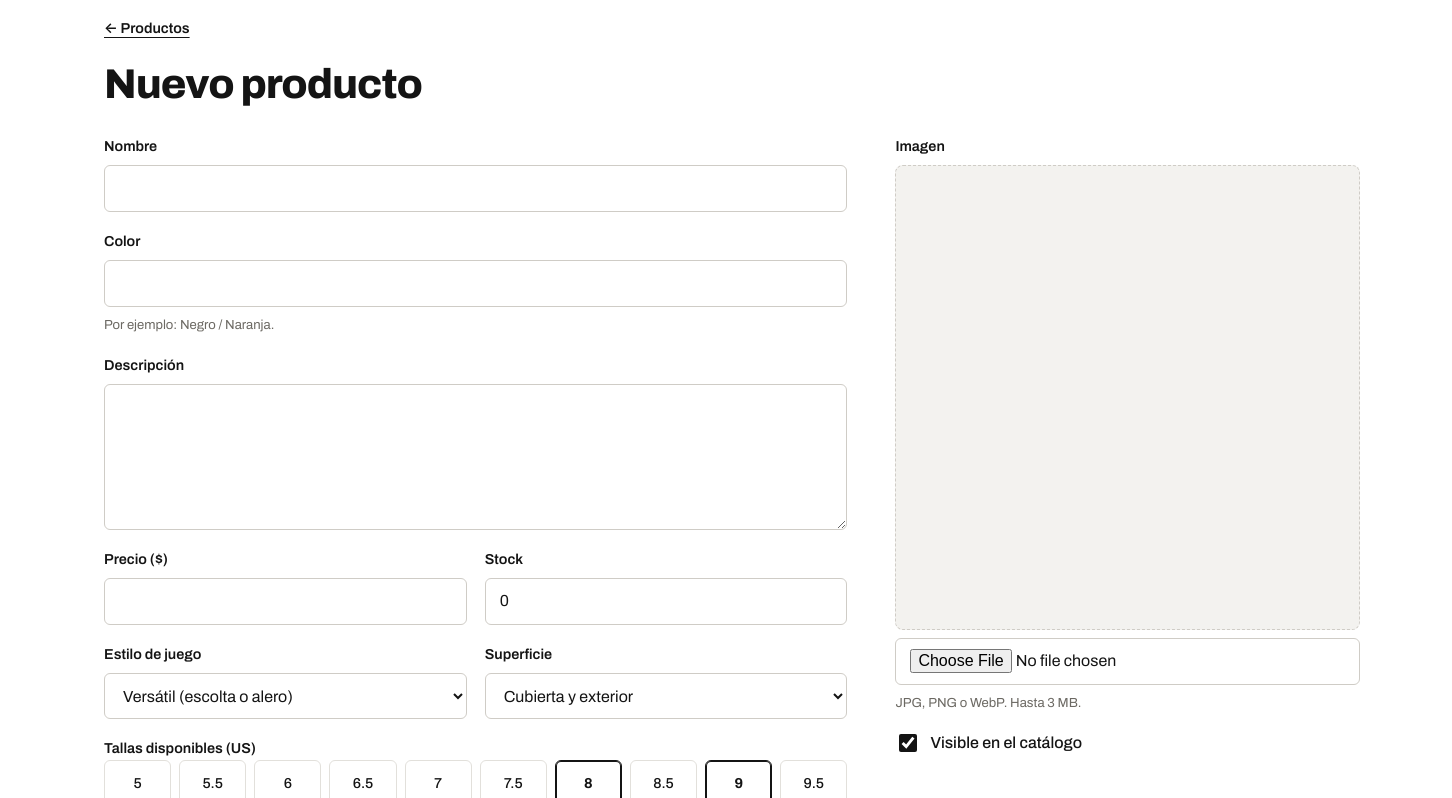
Scenario: formulario de producto del admin › no manda nada si el precio es inválido
Step 1. Type "Zapatilla nueva" into the field labelled "Nombre" → [476, 189], box [104,165,847,212]
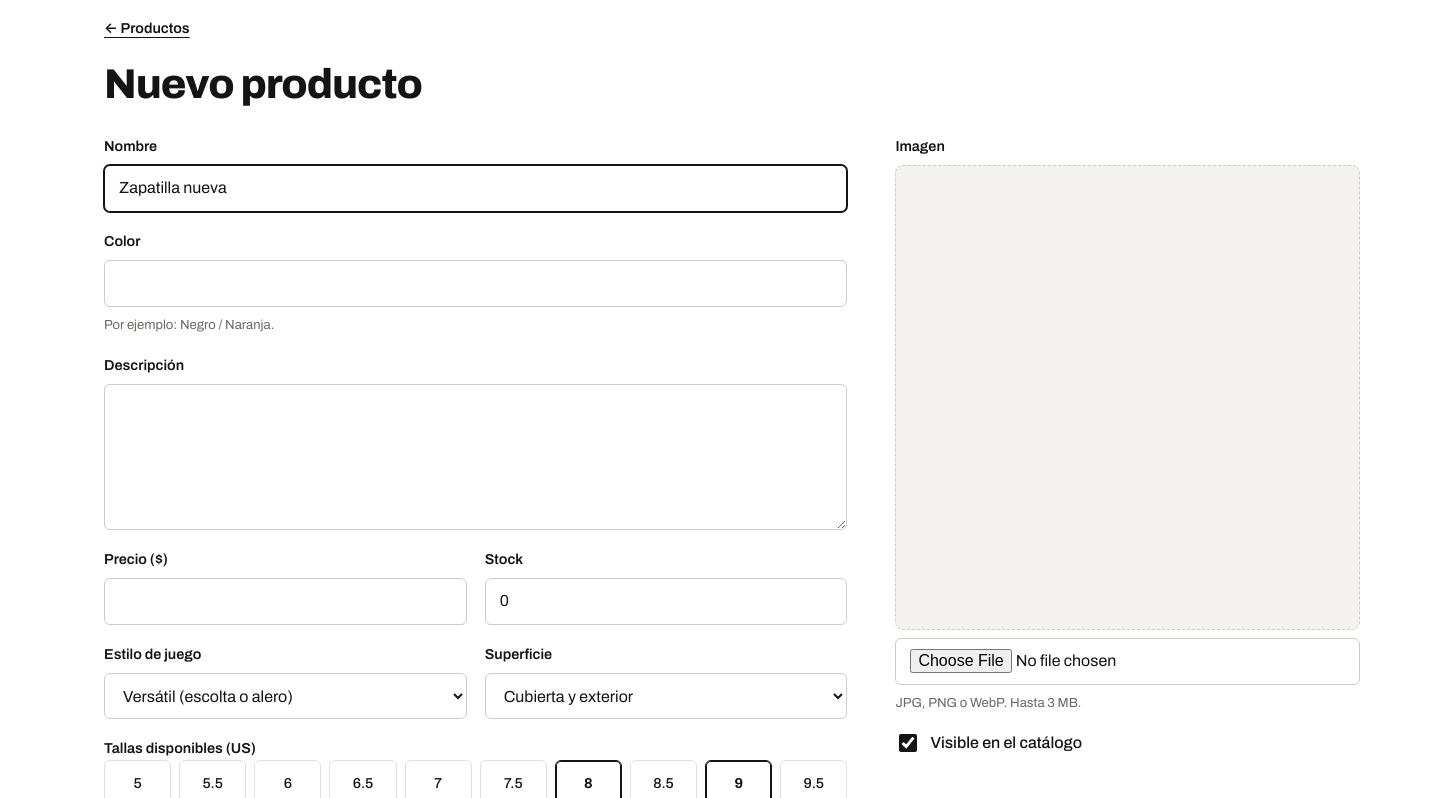
Step 2. Type "diez" into the field labelled "Precio ($)" → [285, 602], box [104,578,467,625]
(page scrolled)
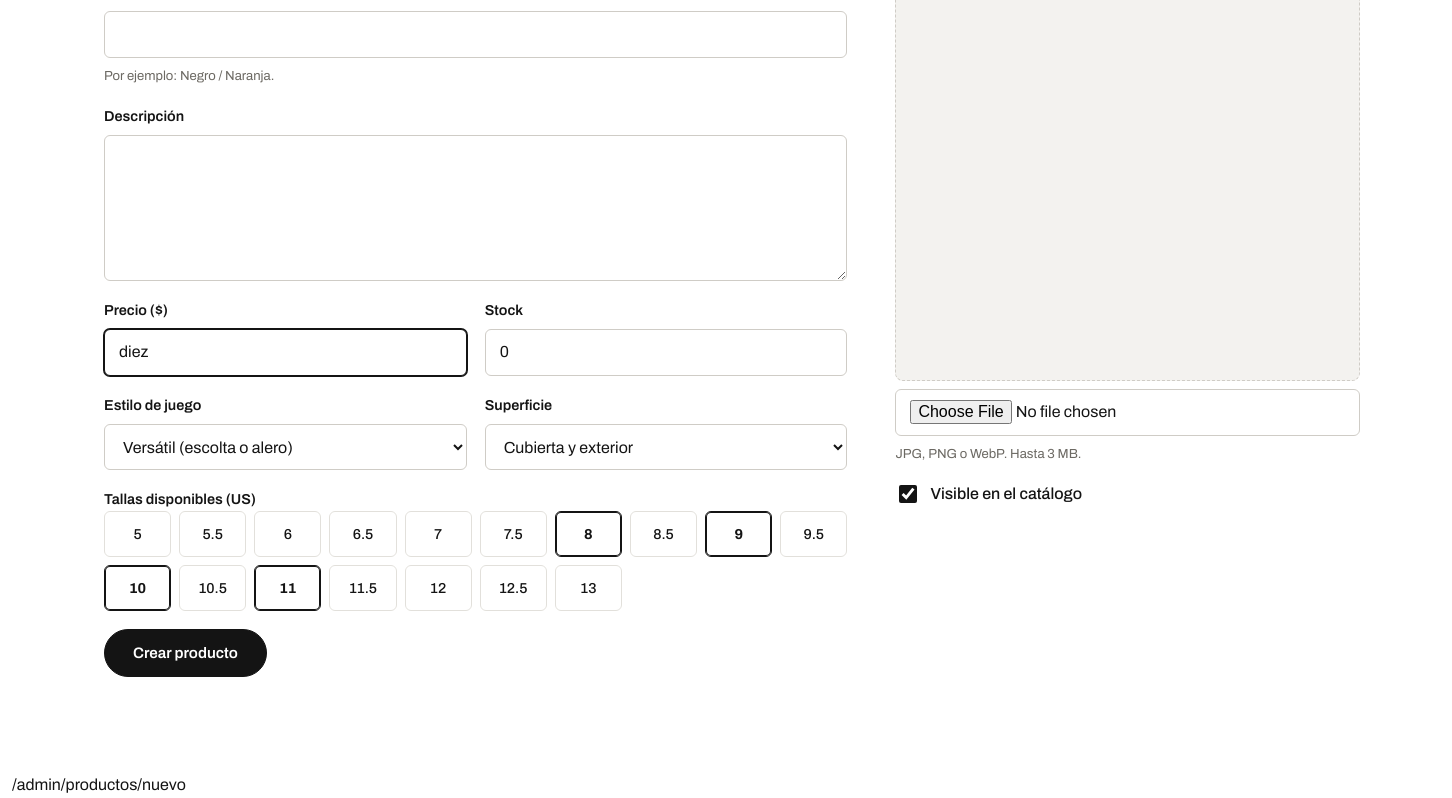
Step 3. Click the button "Crear producto" → [185, 653], box [104,629,267,677]
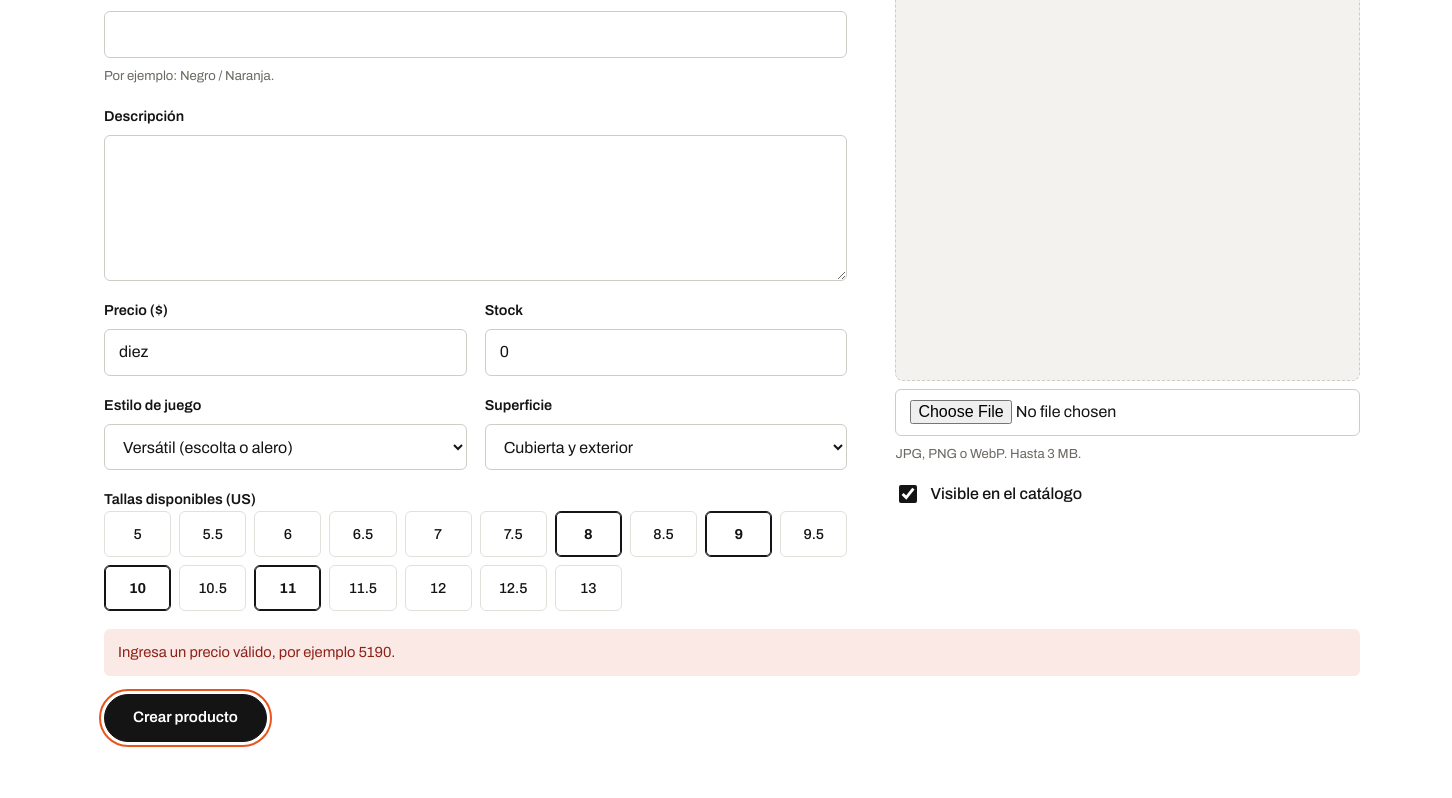
expect the message shows "Ingresa un precio válido": met, box [118,644,396,660]
